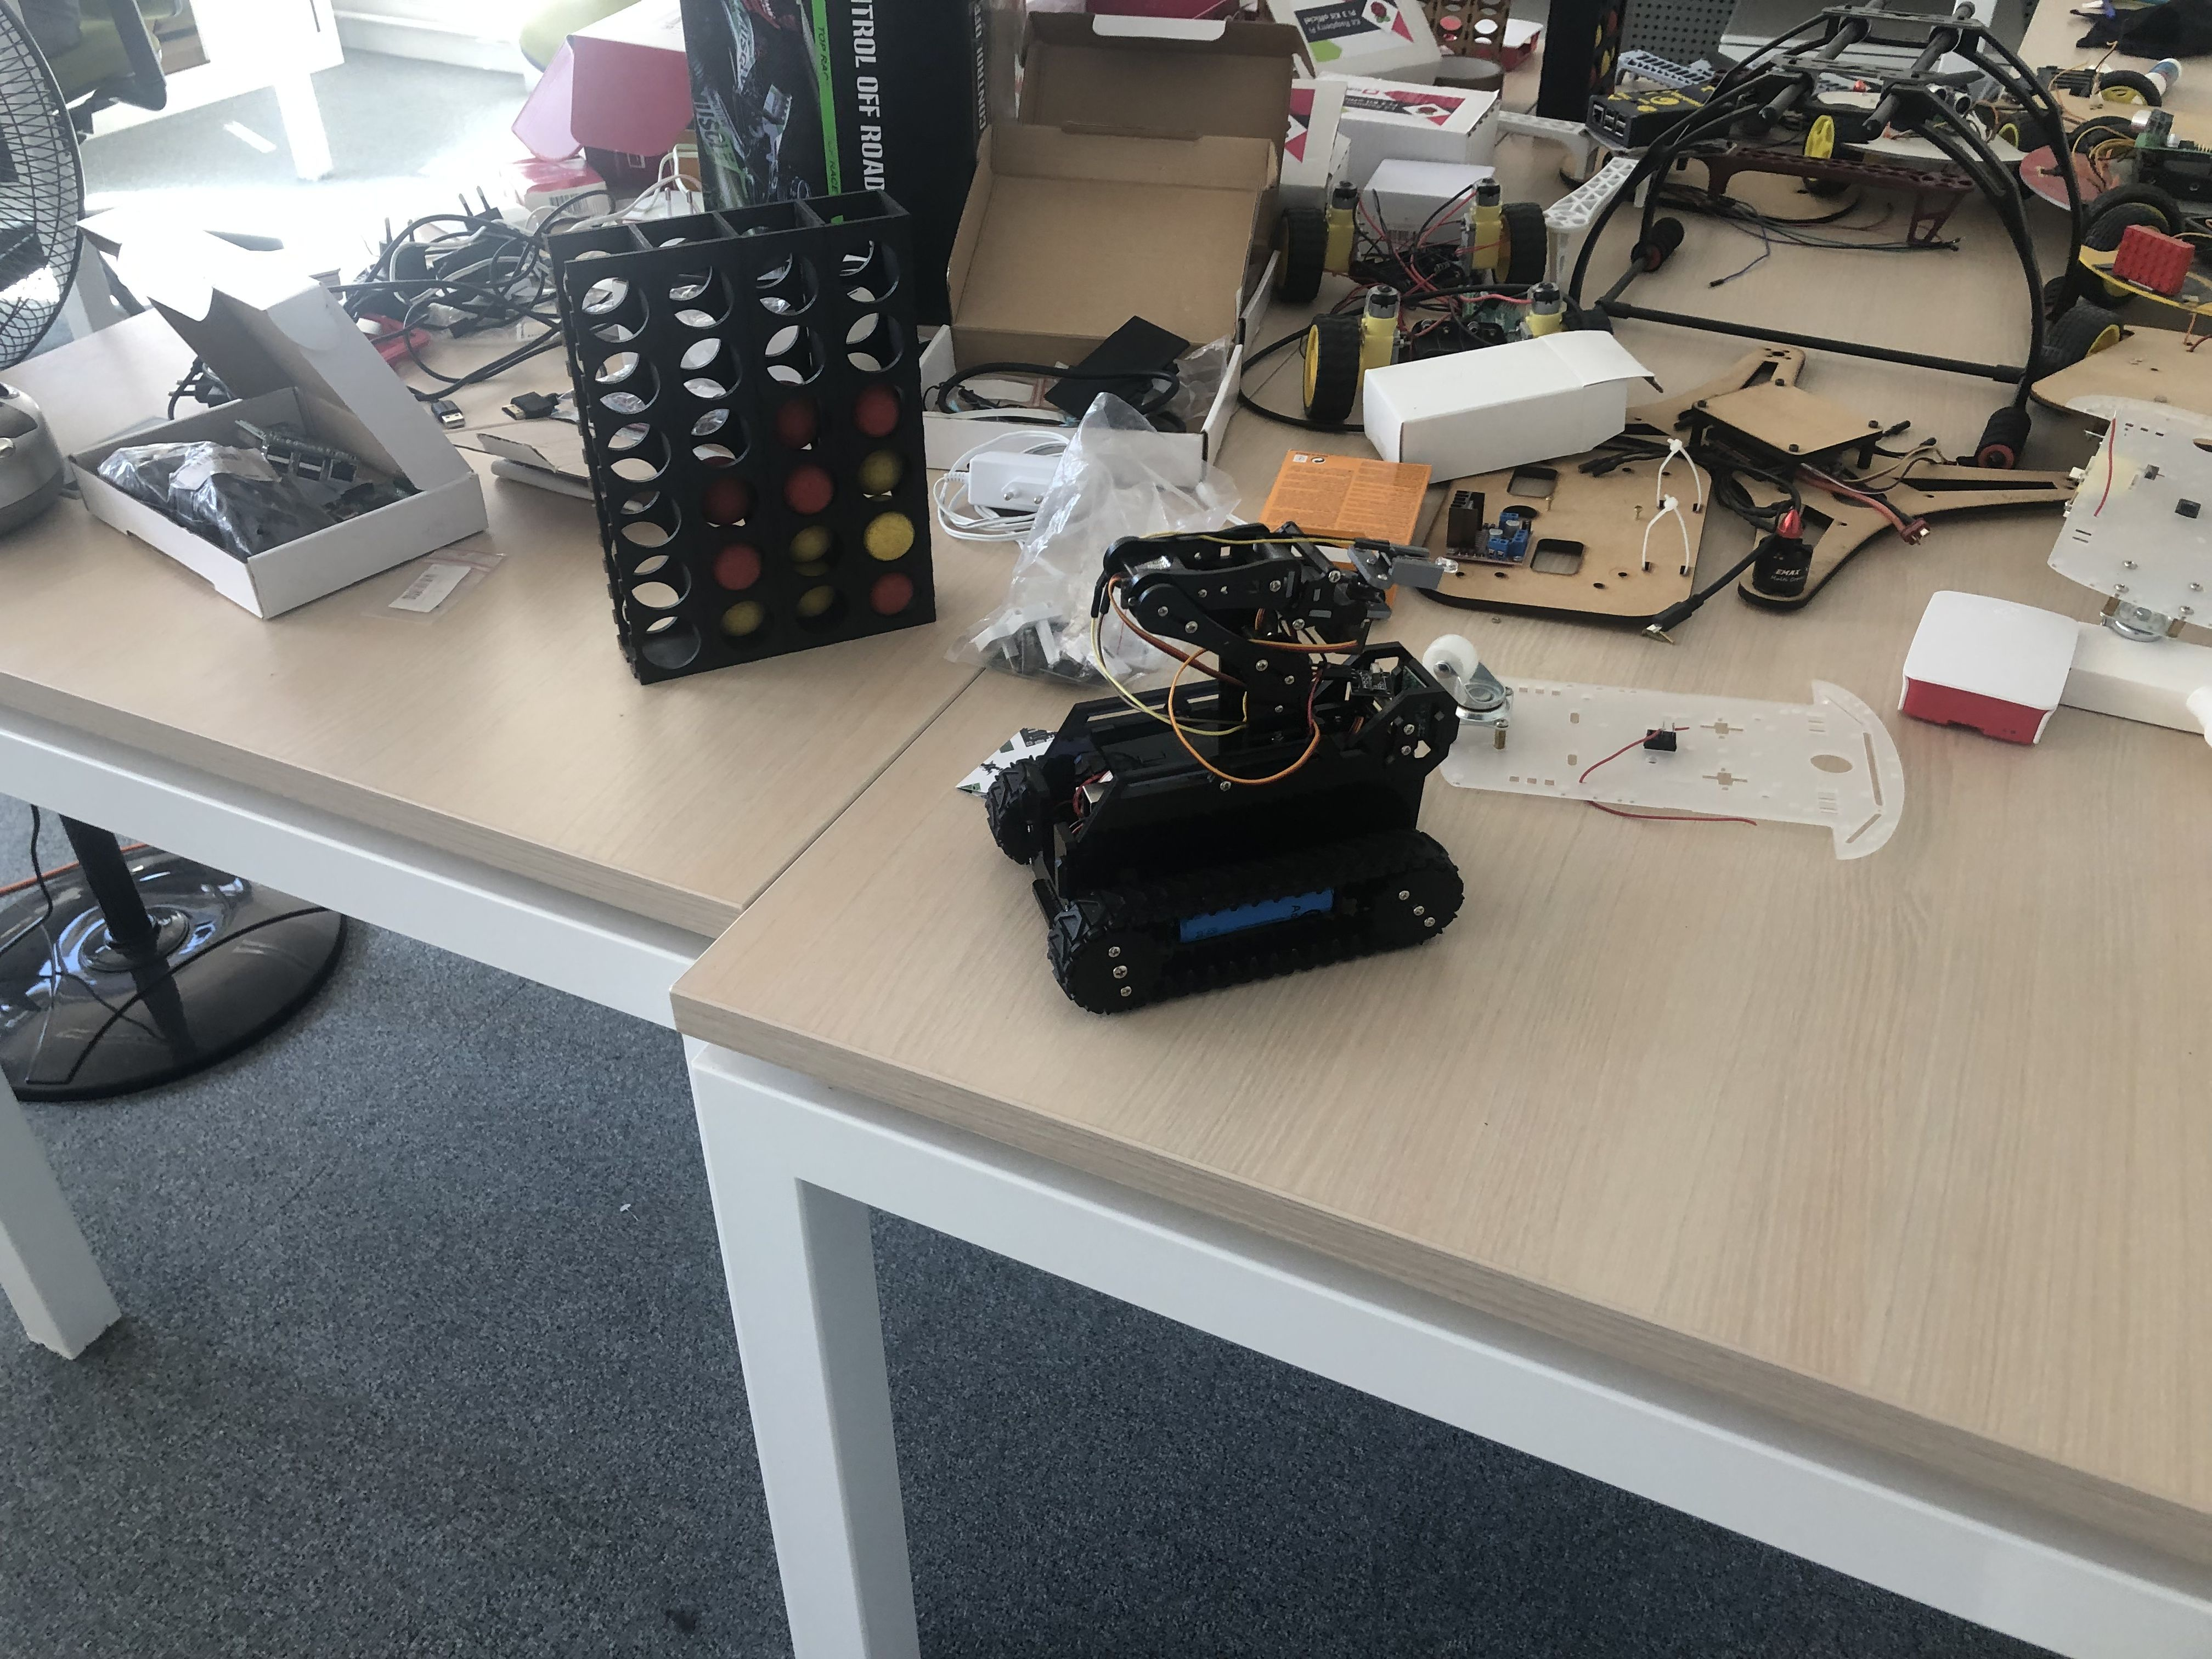rasptank: (977, 518, 1472, 1018)
